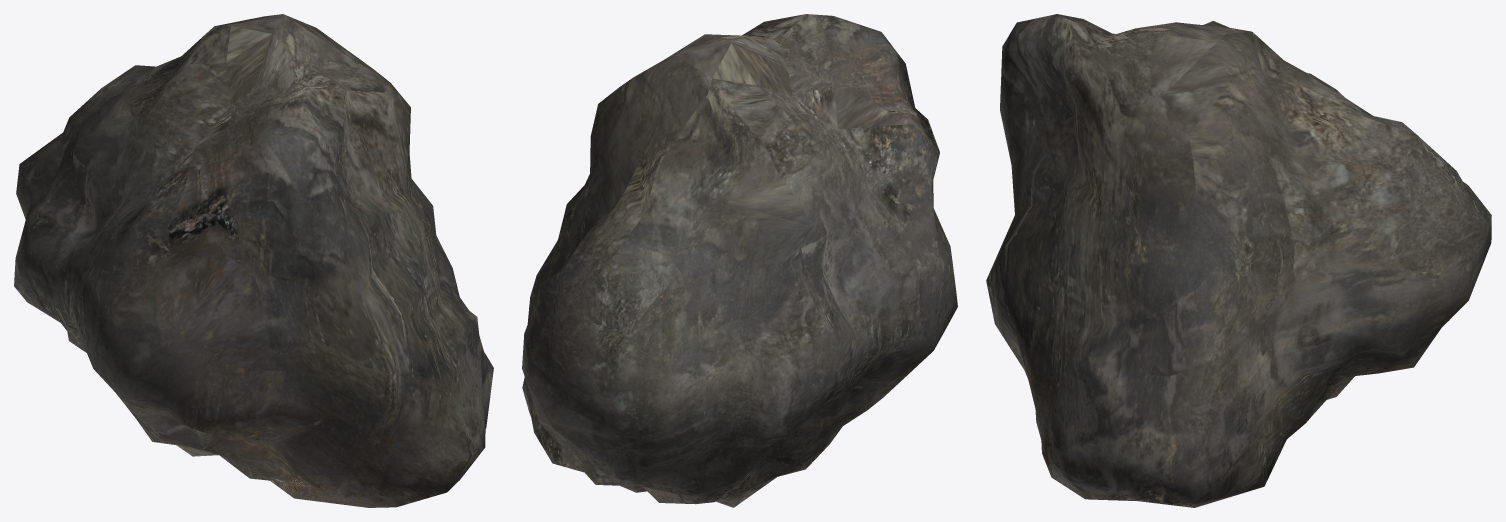
File: Stone_Small.fbx
3 views of the same model, side by side, from view 1: azimuth 30°, elevation 25°; view 2: azimuth 150°, elevation 25°; view 3: azimuth 270°, elevation 25° (orthographic). The views are drawn at different scales.
Parts seen in each view (by area): view 1: Stone_Small; view 2: Stone_Small; view 3: Stone_Small.
Boxes of the visible parts, <box> form: Stone_Small: <box>14,14,493,507</box>; Stone_Small: <box>522,14,957,507</box>; Stone_Small: <box>986,14,1491,507</box>.
Bounding box in the file's own units: 84.08 × 93.64 × 97.75.
